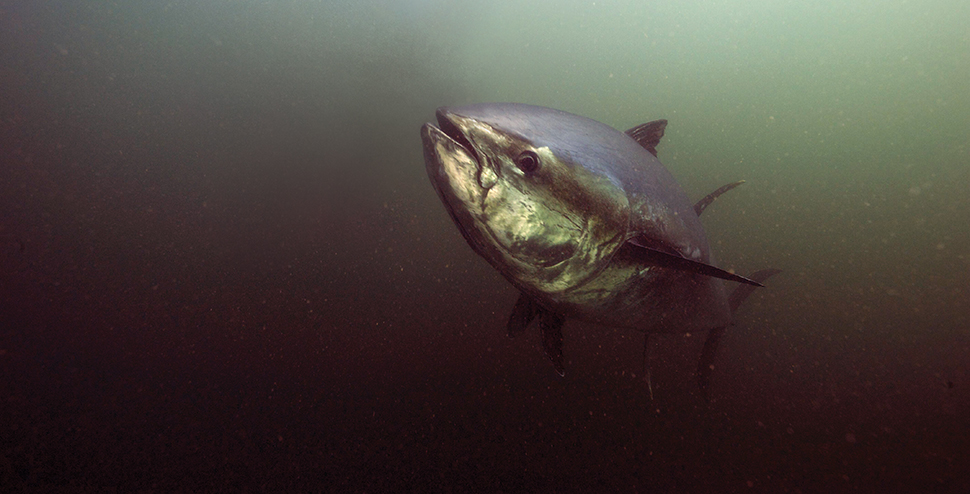Bluefina Tuna: (421, 96, 791, 386)
